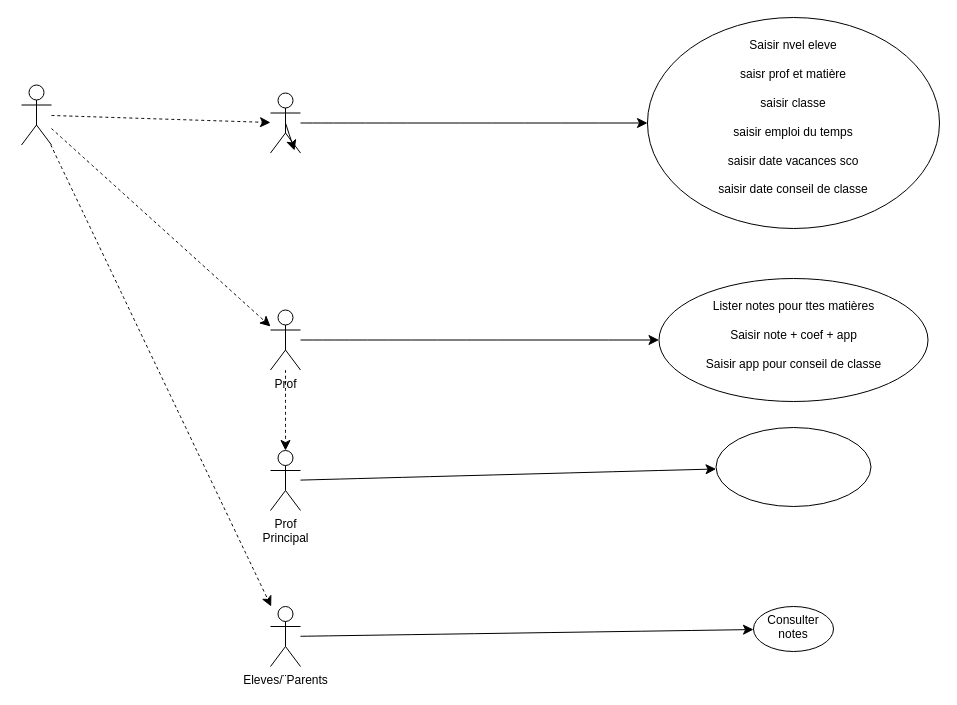
This 957x705 diagram has some shape labels left out. The shapes that lost their labels are listed below. From the top down, each one's centre as x and y in pixels, then its label:
At point (36, 114): "Usager".
At point (285, 122): "Equipe Dir".
At point (793, 466): "Saisie appr glob Mod prof".
